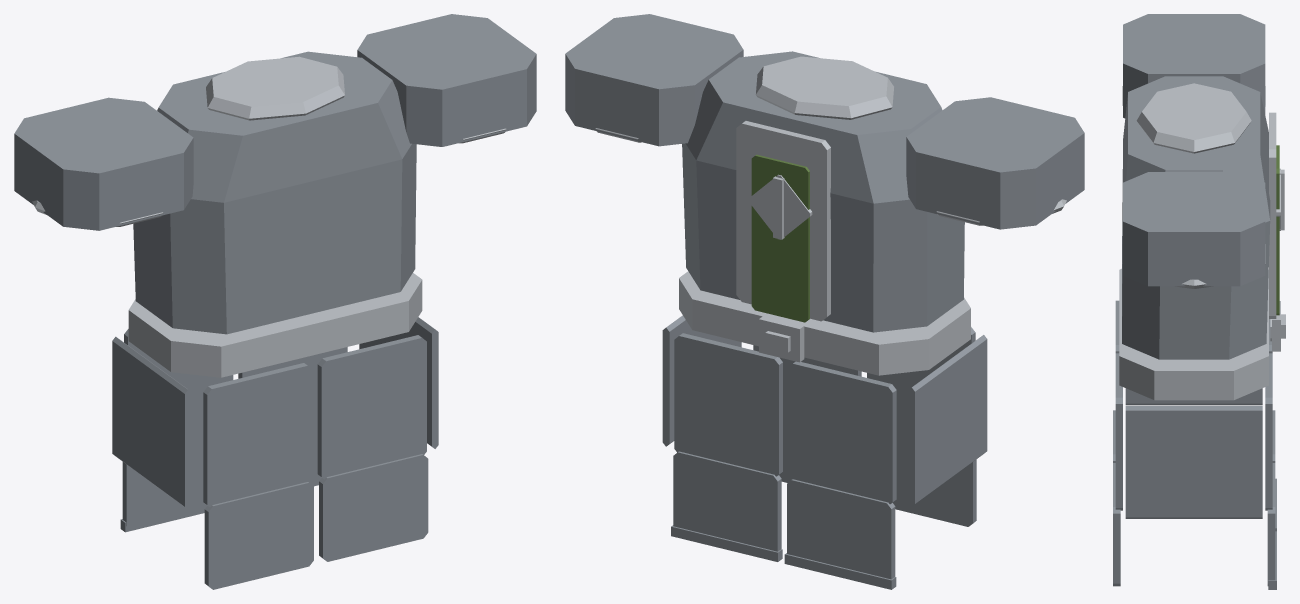
File: armor_healer_s1.fbx
3 renders of one model, left to right at view 1: azimuth 30°, elevation 25°; view 2: azimuth 150°, elevation 25°; view 3: azimuth 270°, elevation 25°, orthographic. The views are drawn at different scales.
Parts seen in each view (by area): view 1: Chest_Body, Tasset_L_Body, Tasset_R_Body, Chest_Trim, Shoulder_L_Body, Shoulder_R_Body; view 2: Chest_Body, Tasset_L_Body, Chest_Trim, Tasset_R_Body, Shoulder_L_Body, Shoulder_R_Body, Chest_Attach; view 3: Tasset_R_Body, Chest_Body, Shoulder_R_Body, Chest_Trim, Shoulder_L_Body, Tasset_L_Body, Chest_Attach, Shoulder_R_Trim.
Part boxes in pixels (<box>): Chest_Body: <box>133,51,416,334</box>; Tasset_L_Body: <box>112,329,313,589</box>; Tasset_R_Body: <box>238,317,438,561</box>; Chest_Trim: <box>128,56,422,377</box>; Shoulder_L_Body: <box>14,97,193,230</box>; Shoulder_R_Body: <box>357,14,536,146</box>; Chest_Body: <box>682,51,964,332</box>; Tasset_L_Body: <box>784,327,987,589</box>; Chest_Trim: <box>679,56,970,375</box>; Tasset_R_Body: <box>662,315,861,561</box>; Shoulder_L_Body: <box>906,97,1084,229</box>; Shoulder_R_Body: <box>565,14,743,146</box>; Chest_Attach: <box>751,154,809,322</box>; Tasset_R_Body: <box>1113,353,1276,589</box>; Chest_Body: <box>1122,76,1270,359</box>; Shoulder_R_Body: <box>1123,172,1265,286</box>; Chest_Trim: <box>1119,83,1285,400</box>; Shoulder_L_Body: <box>1123,14,1265,118</box>; Tasset_L_Body: <box>1113,300,1276,531</box>; Chest_Attach: <box>1276,145,1279,315</box>; Shoulder_R_Trim: <box>1122,244,1265,288</box>.
Size of the model in its own units: 421 by 378 by 138.
